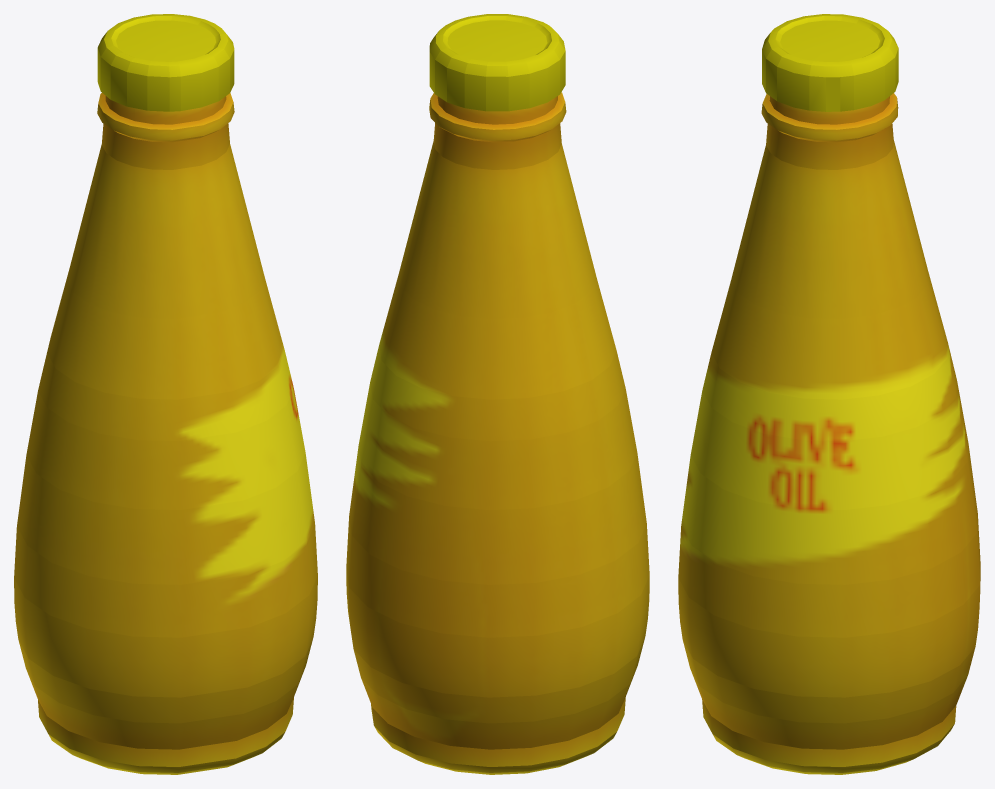
File: Oil Glass Container.fbx
The picture shows the model from 3 angles, left to right: view 1: azimuth 30°, elevation 25°; view 2: azimuth 150°, elevation 25°; view 3: azimuth 270°, elevation 25°; orthographic projection.
Visible parts, largest first — view 1: Oil_Glass_Container; view 2: Oil_Glass_Container; view 3: Oil_Glass_Container.
Part boxes in pixels (box(x1,y1,x2,y2)): Oil_Glass_Container: box(14, 14, 317, 774); Oil_Glass_Container: box(346, 14, 649, 774); Oil_Glass_Container: box(678, 14, 980, 774).
Bounding box in the file's own units: 10.57 × 26.62 × 10.58.
Materials: 1 (1 with a texture image).
